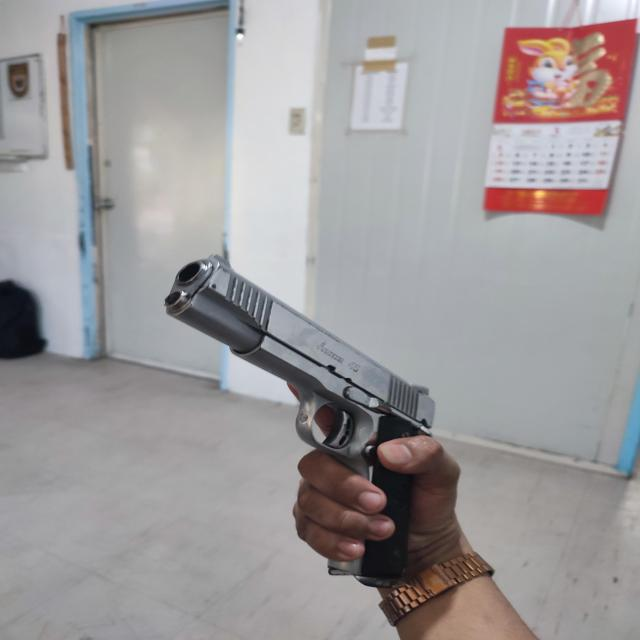pistol: (164, 255, 434, 577)
